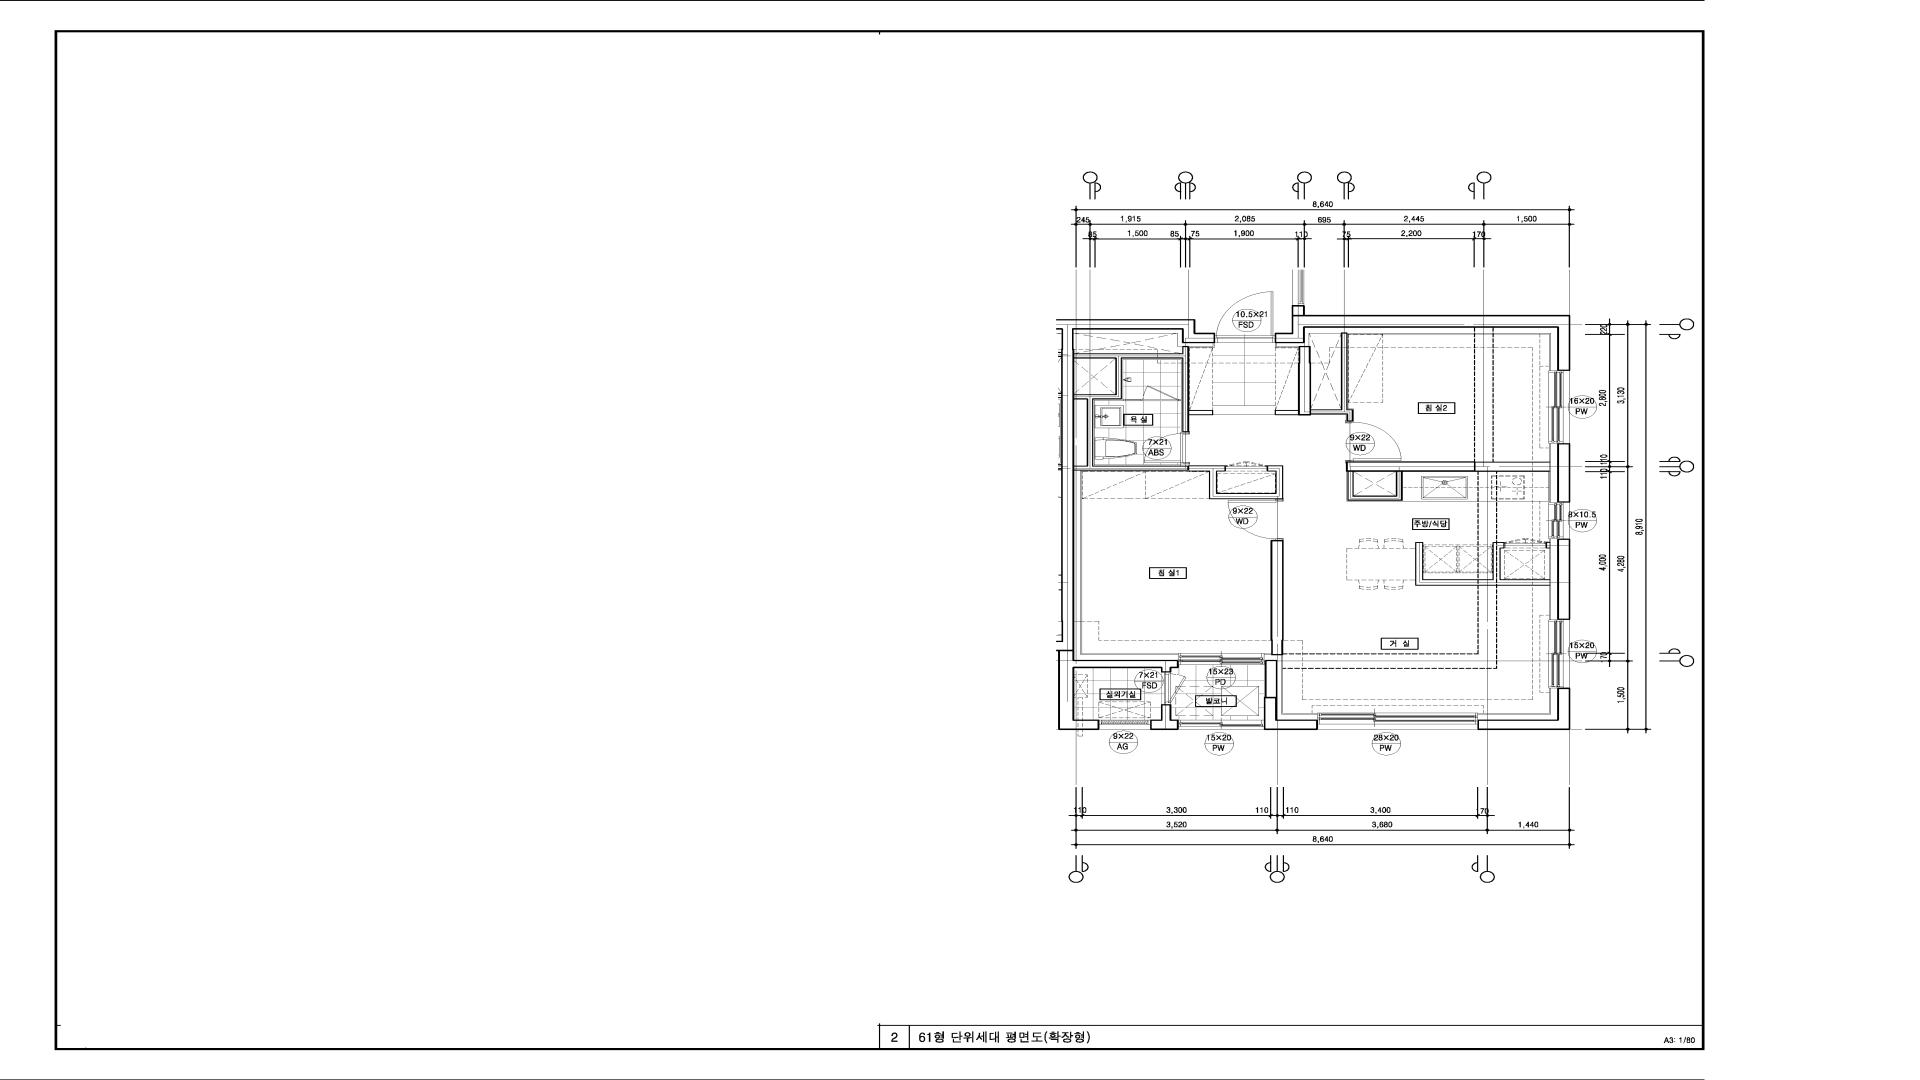door: (1215, 287, 1275, 338), (1228, 499, 1283, 540), (1347, 421, 1401, 462), (1144, 432, 1189, 466), (1164, 672, 1186, 704), (1143, 386, 1181, 401), (1225, 461, 1267, 471)
wall: (1058, 319, 1215, 730), (1074, 346, 1283, 499), (1275, 315, 1570, 371), (1347, 462, 1550, 501), (1275, 332, 1354, 421), (1415, 542, 1550, 586), (1478, 688, 1570, 730), (1264, 697, 1317, 730), (1271, 540, 1283, 655), (1557, 539, 1570, 620), (1354, 472, 1396, 496), (1557, 443, 1570, 502), (1150, 704, 1179, 730), (1264, 660, 1277, 697), (1123, 399, 1143, 401), (1546, 542, 1550, 549)
window: (1317, 713, 1478, 730), (1178, 653, 1264, 665), (1549, 371, 1563, 443), (1549, 620, 1563, 688), (1179, 720, 1264, 730), (1549, 502, 1563, 539), (1099, 720, 1150, 730)
